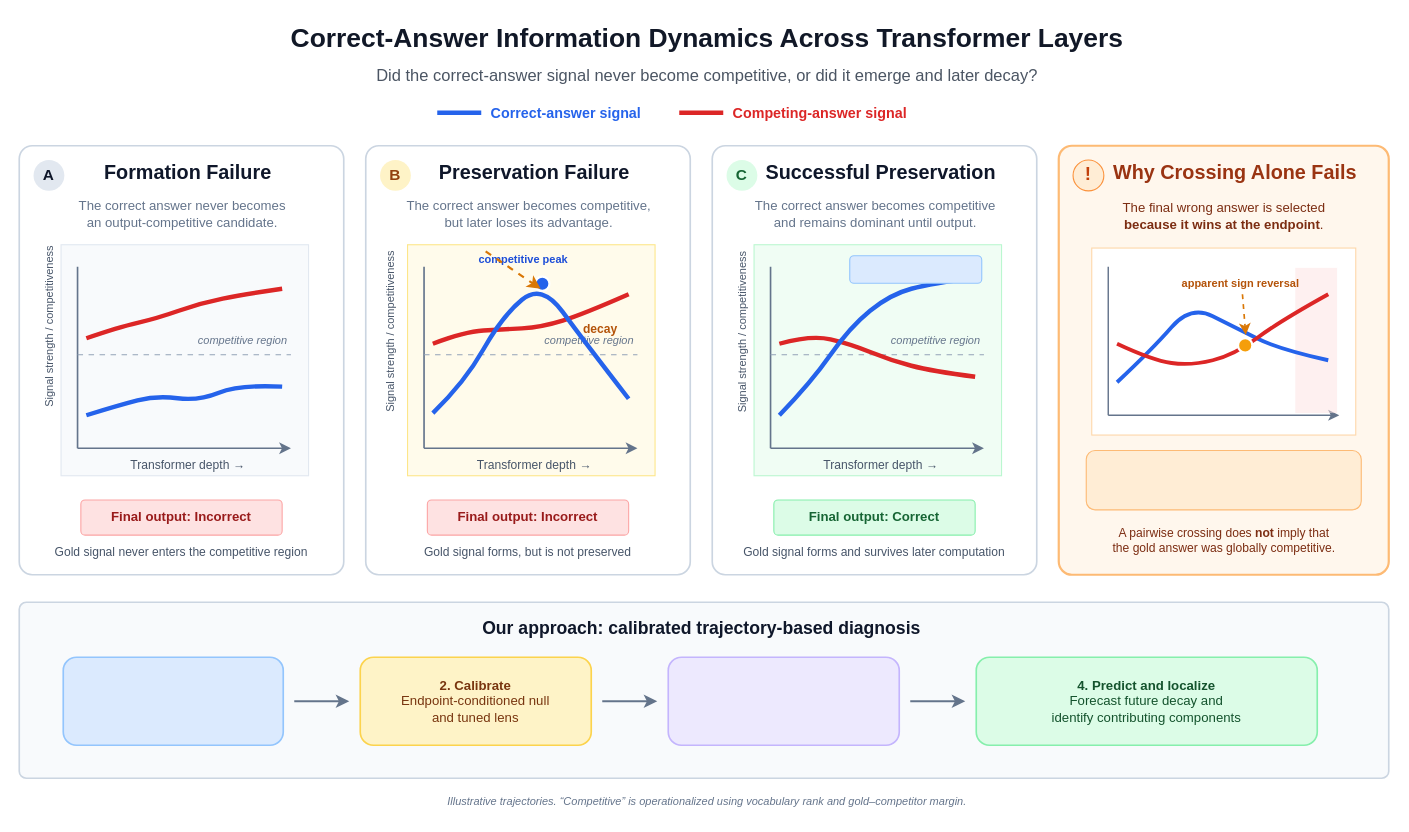
This 1409x832 diagram has some shape labels left out. The shapes that lost their labels are listed below. From the top down, each one's centre as x and y in pixels, then its label:
point (915, 269): formed and preserved
point (1315, 340): endpoint
point (1223, 479): Observed reversal: 88.0% Endpoint-conditioned null: 88.5%
point (173, 701): 1. Trace Layerwise probability and vocabulary rank
point (783, 701): 3. Diagnose Formation failure vs. preservation failure
